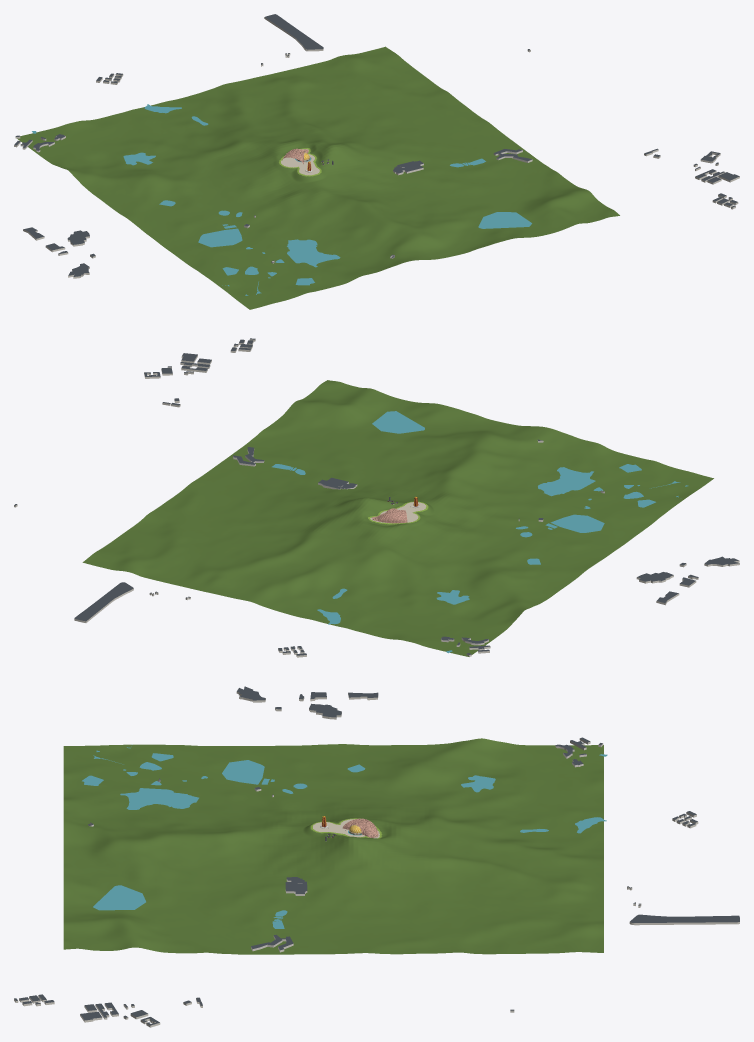
The model's file is static.glb.
3 renders of one model, top to bottom at view 1: azimuth 30°, elevation 25°; view 2: azimuth 150°, elevation 25°; view 3: azimuth 270°, elevation 25°, orthographic. The views are drawn at different scales.
Visible parts, largest first — view 1: Ground, City, Water; view 2: Ground, City, Water; view 3: Ground, City, Water.
Part boxes in pixels (x1,y1,x2,y2): Ground: (17, 46, 619, 309); City: (14, 14, 739, 278); Water: (32, 104, 531, 295); Ground: (82, 380, 713, 656); City: (14, 338, 739, 657); Water: (272, 411, 688, 653); Ground: (63, 738, 603, 954); City: (14, 686, 739, 1027); Water: (82, 744, 607, 928).
Size of the model in its own units: 5269 by 214 by 4706.
